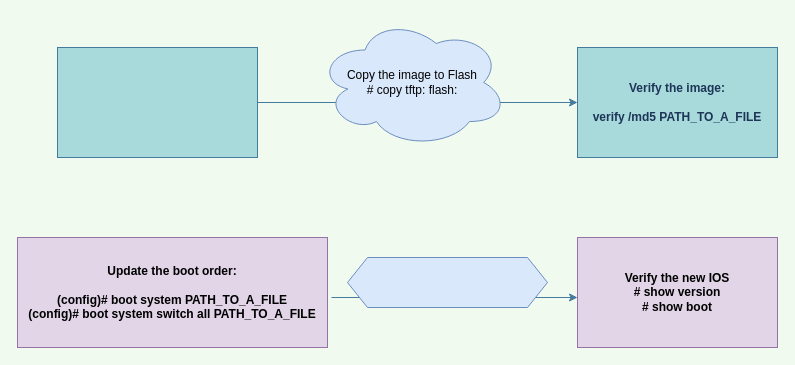
The diagram is 795 pixels wide and 365 high, and some of its shapes have lost their labels. The shapes that lost their labels are listed below. From the top down, each one's centre as x and y in pixels, then its label:
pixel 157 102: Download IOS from Cisco.com
pixel 447 282: Reload the switch # reload
